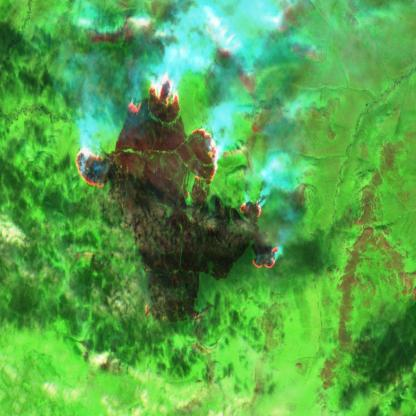fire: (74, 69, 284, 273)
